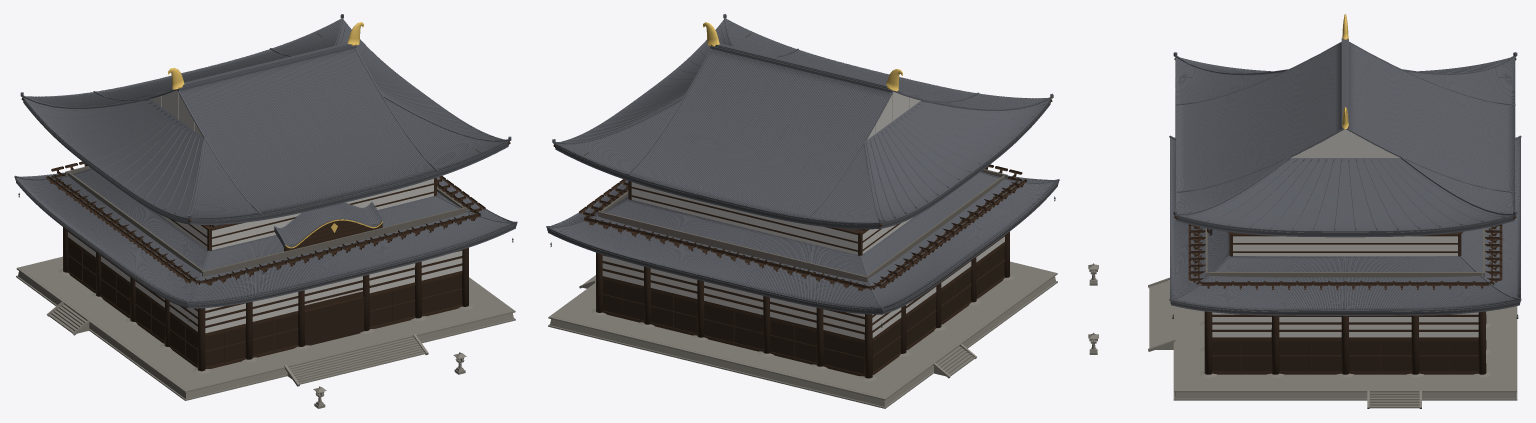
File: jp-03-todaiji-daibutsuden.glb
3 renders of one model, left to right at view 1: azimuth 30°, elevation 25°; view 2: azimuth 150°, elevation 25°; view 3: azimuth 270°, elevation 25°, orthographic. The views are drawn at different scales.
Visible parts, largest first — view 1: 屋根_上層_丸瓦, 屋根_上層_野地, 屋根_下層_丸瓦, 基壇_壇身, 壁_板扉, 屋根_下層_野地, 壁_白壁, 組物_下層, 壁_軸部, 飾_棟_鬼瓦, 柱_外周, 基壇_石階 (+10 smaller); view 2: 屋根_上層_丸瓦, 屋根_上層_野地, 屋根_下層_丸瓦, 基壇_壇身, 壁_板扉, 屋根_下層_野地, 壁_白壁, 組物_下層, 壁_軸部, 上層_白壁, 飾_棟_鬼瓦, 柱_外周 (+7 smaller); view 3: 屋根_上層_丸瓦, 屋根_上層_野地, 屋根_下層_丸瓦, 基壇_壇身, 壁_板扉, 屋根_下層_野地, 壁_白壁, 上層_白壁, 壁_軸部, 飾_棟_鬼瓦, 組物_下層, 柱_外周 (+6 smaller).
Part boxes in pixels (x1,y1,x2,y2): 屋根_上層_丸瓦: (27,19,506,218); 屋根_上層_野地: (23,19,509,224); 屋根_下層_丸瓦: (17,169,514,302); 基壇_壇身: (16,256,515,400); 壁_板扉: (68,241,461,366); 屋根_下層_野地: (15,175,516,308); 壁_白壁: (68,232,462,333); 組物_下層: (46,161,485,285); 壁_軸部: (67,231,462,362); 飾_棟_鬼瓦: (14,14,517,303); 柱_外周: (63,227,468,371); 基壇_石階: (46,302,428,386); 屋根_上層_丸瓦: (557,19,1047,222); 屋根_上層_野地: (554,19,1050,229); 屋根_下層_丸瓦: (549,172,1057,308); 基壇_壇身: (548,261,1057,408); 壁_板扉: (603,246,1004,374); 屋根_下層_野地: (547,179,1058,314); 壁_白壁: (602,236,1004,339); 組物_下層: (579,164,1026,290); 壁_軸部: (602,235,1005,369); 上層_白壁: (631,182,912,254); 飾_棟_鬼瓦: (546,14,1059,309); 柱_外周: (596,231,1009,378); 屋根_上層_丸瓦: (1176,42,1514,230); 屋根_上層_野地: (1175,57,1515,237); 屋根_下層_丸瓦: (1170,137,1520,309); 基壇_壇身: (1173,306,1517,400); 壁_板扉: (1212,341,1478,371); 屋根_下層_野地: (1170,137,1520,315); 壁_白壁: (1212,312,1478,337); 上層_白壁: (1233,236,1457,256); 壁_軸部: (1212,314,1478,371); 飾_棟_鬼瓦: (1169,38,1521,300); 組物_下層: (1188,224,1502,289); 柱_外周: (1204,311,1486,374).
Size of the model in its own units: 9.83 by 6.68 by 10.
